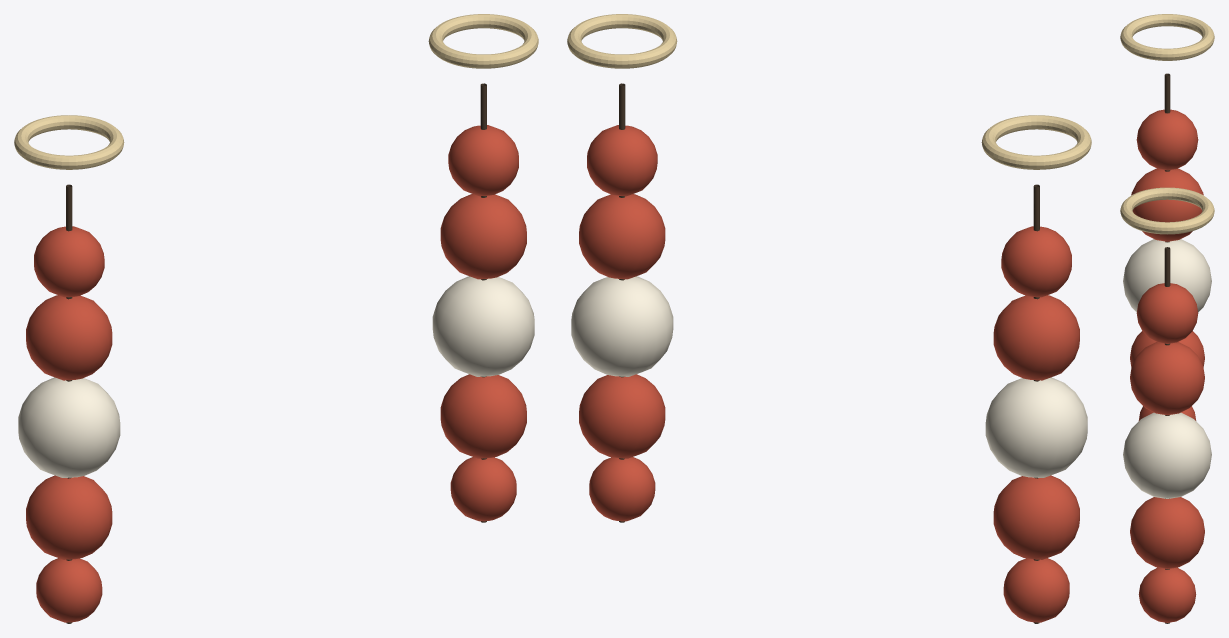
File: beaded-earrings.glb
The picture shows the model from 3 angles, left to right: view 1: azimuth 30°, elevation 25°; view 2: azimuth 150°, elevation 25°; view 3: azimuth 270°, elevation 25°; orthographic projection. The views are drawn at different scales.
Parts seen in each view (by area): view 1: DropBead_1_2, DropBead_-1_2, DropBead_1_1, DropBead_-1_1, DropBead_-1_3, DropBead_1_3, DropBead_1_0, DropBead_-1_0, DropBead_1_4, DropBead_-1_4, EarWire_1, EarWire_-1; view 2: DropBead_1_2, DropBead_-1_2, DropBead_-1_1, DropBead_1_1, DropBead_-1_3, DropBead_1_3, DropBead_1_0, DropBead_-1_0, DropBead_1_4, DropBead_-1_4, EarWire_1, EarWire_-1; view 3: DropBead_1_2, DropBead_1_1, DropBead_1_3, DropBead_-1_2, DropBead_1_0, DropBead_-1_0, DropBead_-1_1, DropBead_1_4, EarWire_-1, EarWire_1, DropBead_-1_3, Thread_1 (+2 smaller).
Part boxes in pixels (box(x1,y1,x2,y2)): DropBead_1_2: box(432, 276, 534, 376); DropBead_-1_2: box(18, 377, 120, 477); DropBead_1_1: box(440, 194, 526, 279); DropBead_-1_1: box(26, 295, 112, 380); DropBead_-1_3: box(26, 475, 112, 559); DropBead_1_3: box(440, 374, 526, 458); DropBead_1_0: box(448, 125, 518, 196); DropBead_-1_0: box(34, 226, 104, 297); DropBead_1_4: box(450, 457, 516, 521); DropBead_-1_4: box(36, 558, 102, 622); EarWire_1: box(428, 14, 538, 68); EarWire_-1: box(14, 115, 124, 169); DropBead_1_2: box(571, 276, 673, 376); DropBead_-1_2: box(985, 377, 1087, 477); DropBead_-1_1: box(993, 295, 1079, 380); DropBead_1_1: box(579, 194, 665, 279); DropBead_-1_3: box(993, 475, 1079, 559); DropBead_1_3: box(579, 374, 665, 458); DropBead_1_0: box(587, 125, 657, 196); DropBead_-1_0: box(1001, 226, 1071, 297); DropBead_1_4: box(589, 457, 655, 521); DropBead_-1_4: box(1003, 558, 1069, 622); EarWire_1: box(567, 14, 677, 68); EarWire_-1: box(981, 115, 1091, 169); DropBead_1_2: box(1123, 412, 1211, 498); DropBead_1_1: box(1130, 342, 1204, 415); DropBead_1_3: box(1130, 497, 1204, 568); DropBead_-1_2: box(1123, 239, 1211, 312); DropBead_1_0: box(1136, 283, 1198, 343); DropBead_-1_0: box(1136, 109, 1198, 170); DropBead_-1_1: box(1131, 168, 1203, 241); DropBead_1_4: box(1138, 567, 1196, 622); EarWire_-1: box(1120, 14, 1214, 60); EarWire_1: box(1120, 187, 1214, 234); DropBead_-1_3: box(1130, 331, 1204, 367); Thread_1: box(1164, 247, 1170, 623).
Bounding box in the file's own units: 0.0738 × 0.0673 × 0.0138.
